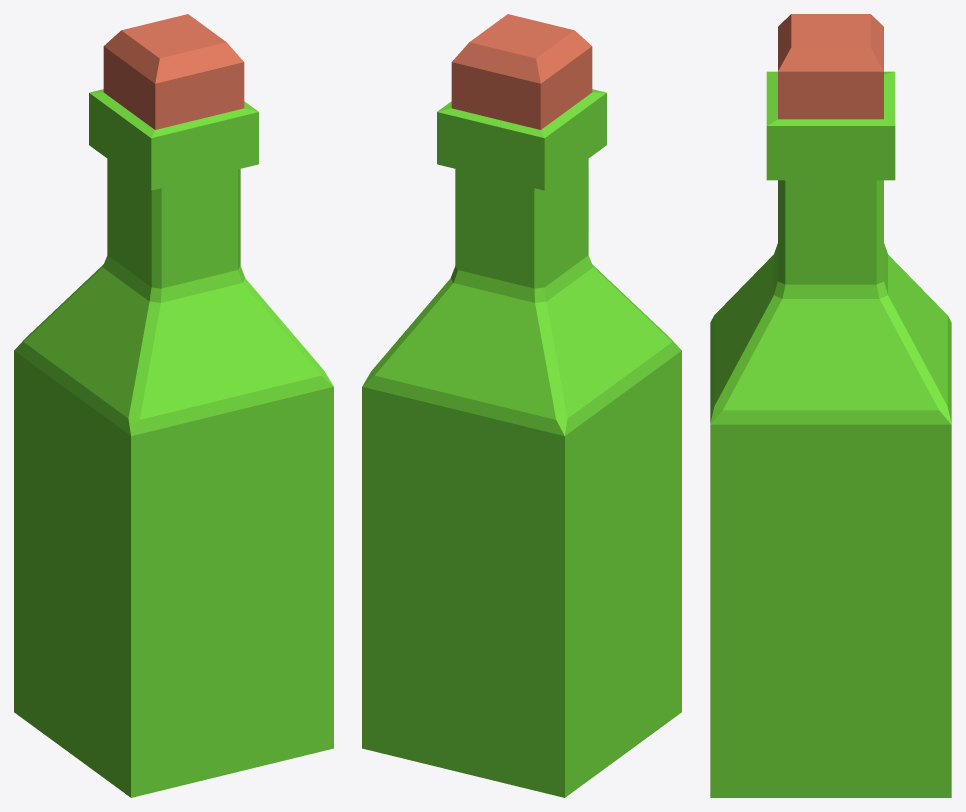
File: bottle2.fbx
3 renders of one model, left to right at view 1: azimuth 30°, elevation 25°; view 2: azimuth 150°, elevation 25°; view 3: azimuth 270°, elevation 25°, orthographic. The views are drawn at different scales.
Parts seen in each view (by area): view 1: bottle02; view 2: bottle02; view 3: bottle02.
Boxes of the visible parts, <box> form: bottle02: <box>14,14,333,797</box>; bottle02: <box>362,14,681,797</box>; bottle02: <box>710,14,951,797</box>.
Size of the model in its own units: 13.84 by 45.28 by 13.84.
